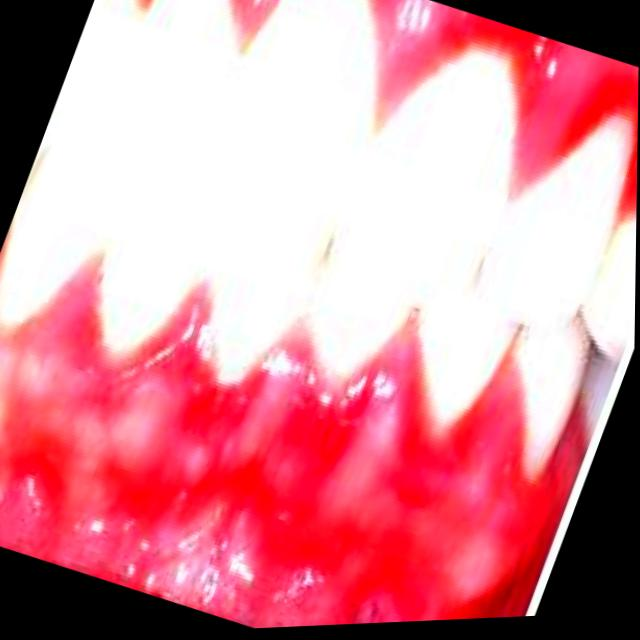gingivitis: (0, 264, 527, 611)
